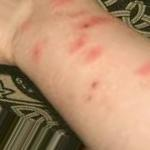Ants: (85, 44, 104, 66), (71, 31, 89, 53), (32, 40, 43, 63), (137, 59, 149, 78), (91, 81, 101, 91), (80, 21, 89, 30)
